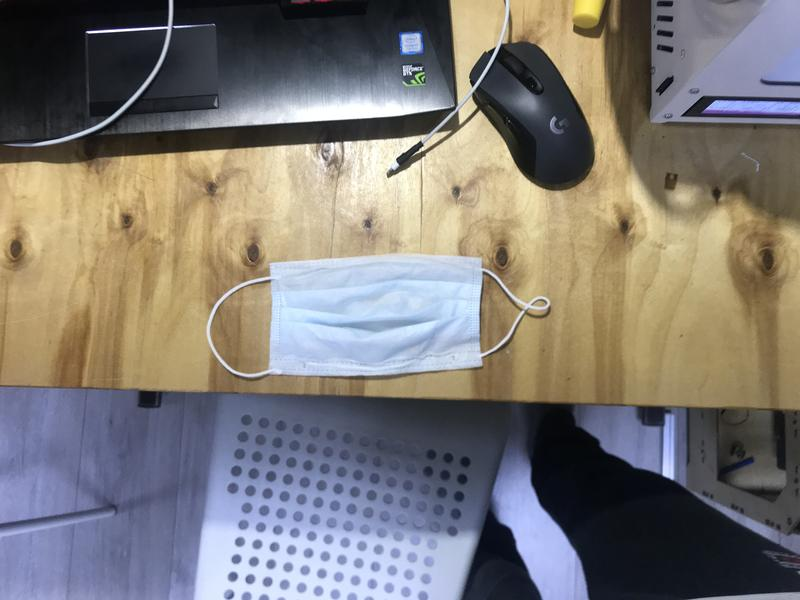medical_mask: (206, 254, 551, 382)
